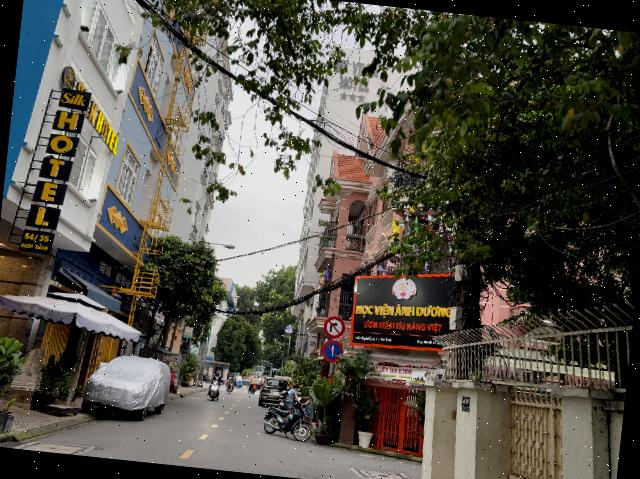cam-do-xe-ngay-le: (321, 339, 344, 364)
cam-re-phai: (322, 316, 347, 340)
